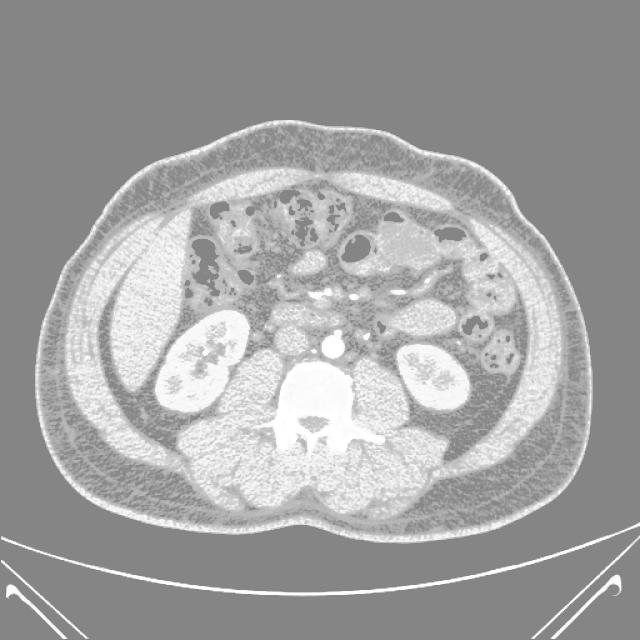NORMAL: (54, 148, 566, 542)
